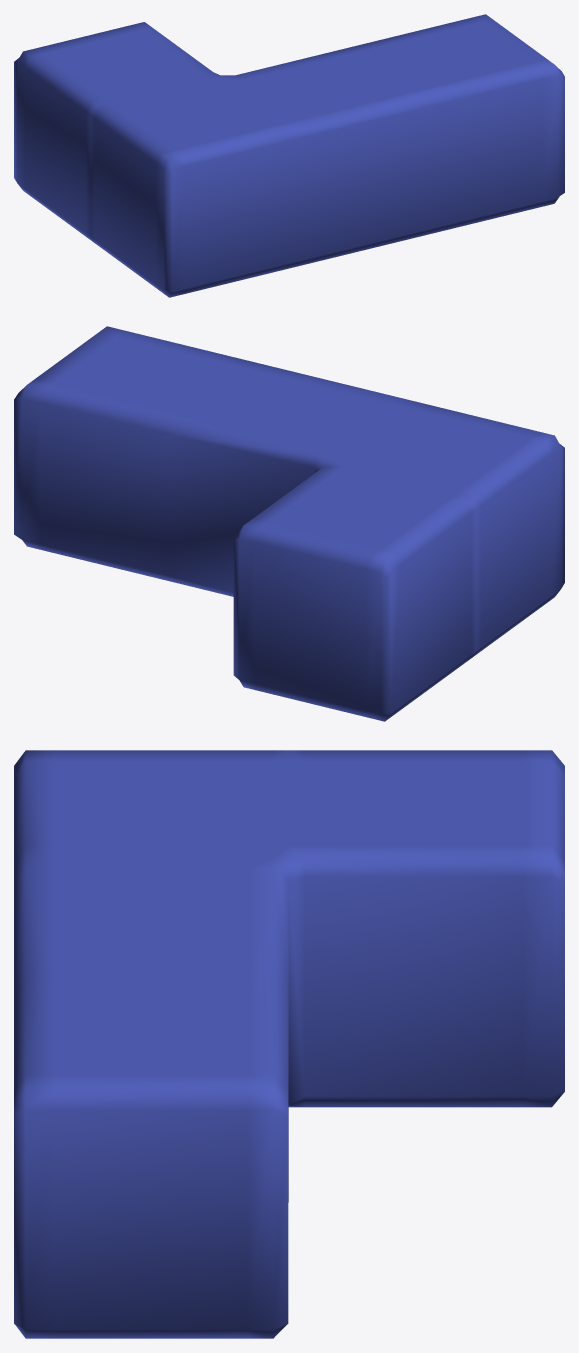
Rendered from LTetris.obj.
3 renders of one model, top to bottom at view 1: azimuth 30°, elevation 25°; view 2: azimuth 150°, elevation 25°; view 3: azimuth 270°, elevation 25°, orthographic. The views are drawn at different scales.
Parts seen in each view (by area): view 1: Cube_Cube_Material; view 2: Cube_Cube_Material; view 3: Cube_Cube_Material.
Boxes of the visible parts, <box> form: Cube_Cube_Material: <box>14,14,564,297</box>; Cube_Cube_Material: <box>14,326,564,721</box>; Cube_Cube_Material: <box>14,750,564,1338</box>.
Size of the model in its own units: 2.99 by 1 by 1.99.
